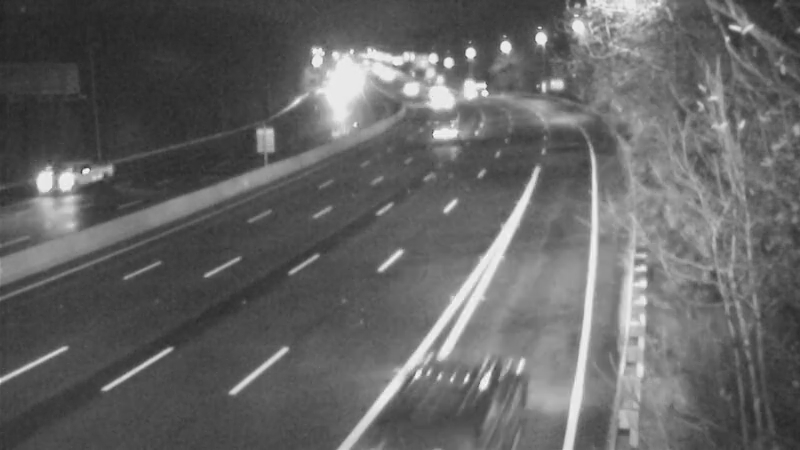vehicle: (401, 351, 511, 450), (12, 140, 92, 220), (439, 58, 489, 108), (383, 61, 433, 111), (413, 65, 463, 115), (413, 74, 463, 124), (414, 97, 464, 147), (313, 68, 363, 118)
